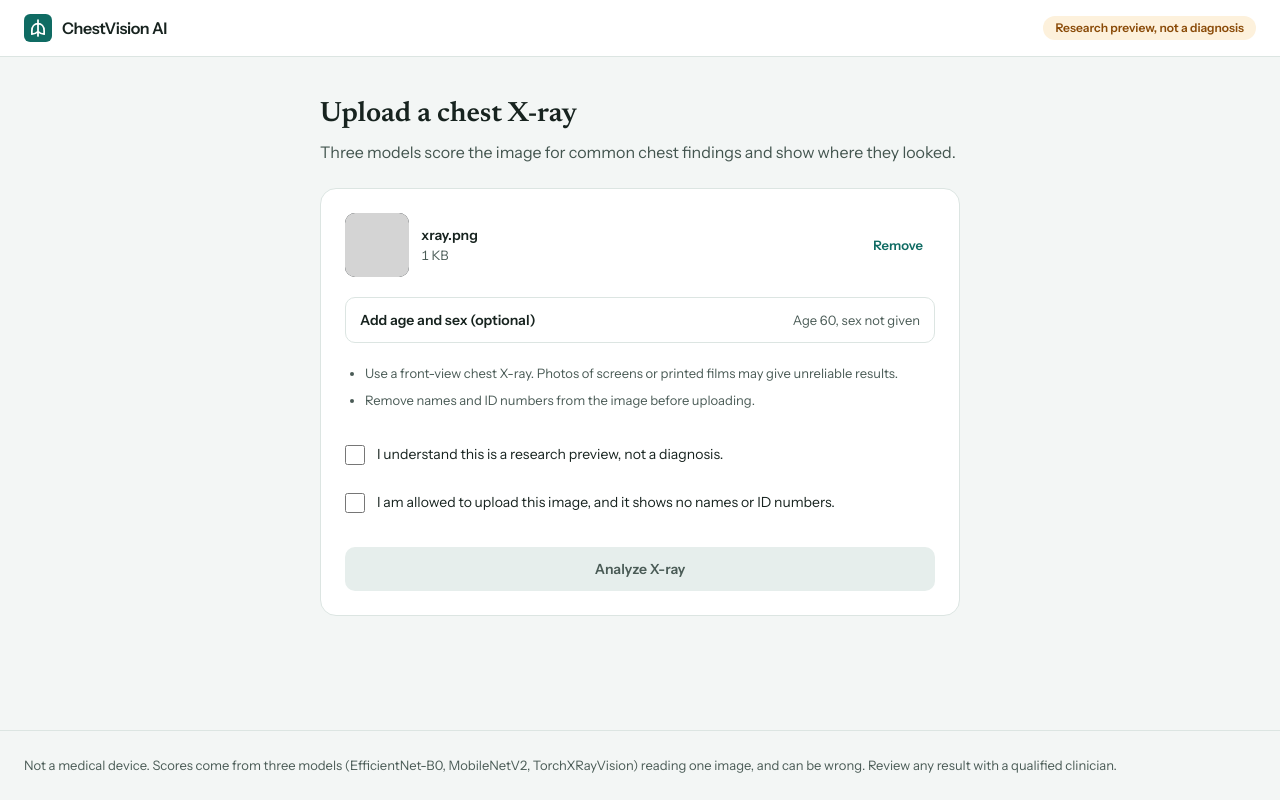
Test: analyze screen keeps the button disabled until a file is chosen and both boxes are ticked
Earlier steps of the test are not shown.
Expected: the text "xray.png" is shown, [421,226,478,244]
Expected: the button "Analyze X-ray" is disabled, [345,547,935,591]
Click the checkbox labelled "I understand this is a research preview, not a diagnosis.". click: (355, 455)
box: [345,445,365,465]
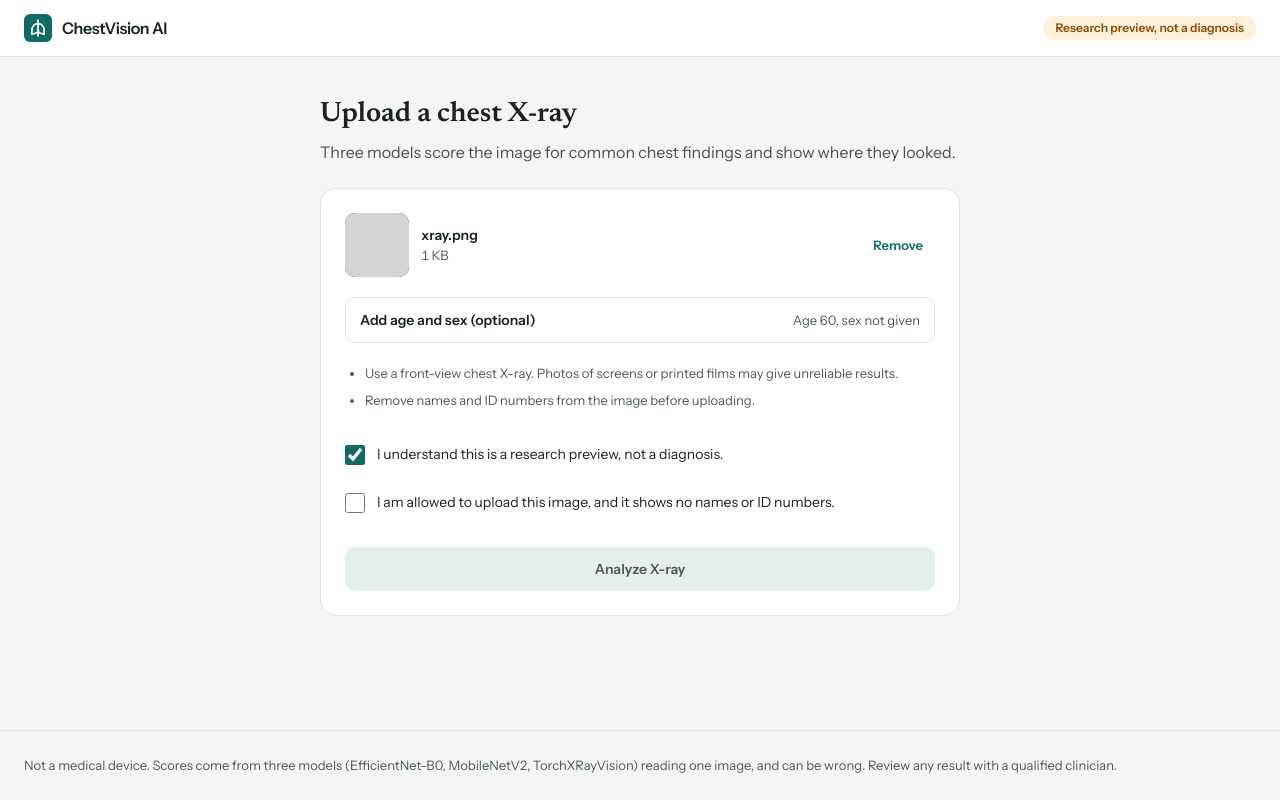
Click the 2nd checkbox. click: (355, 503)
box: [345,493,365,513]
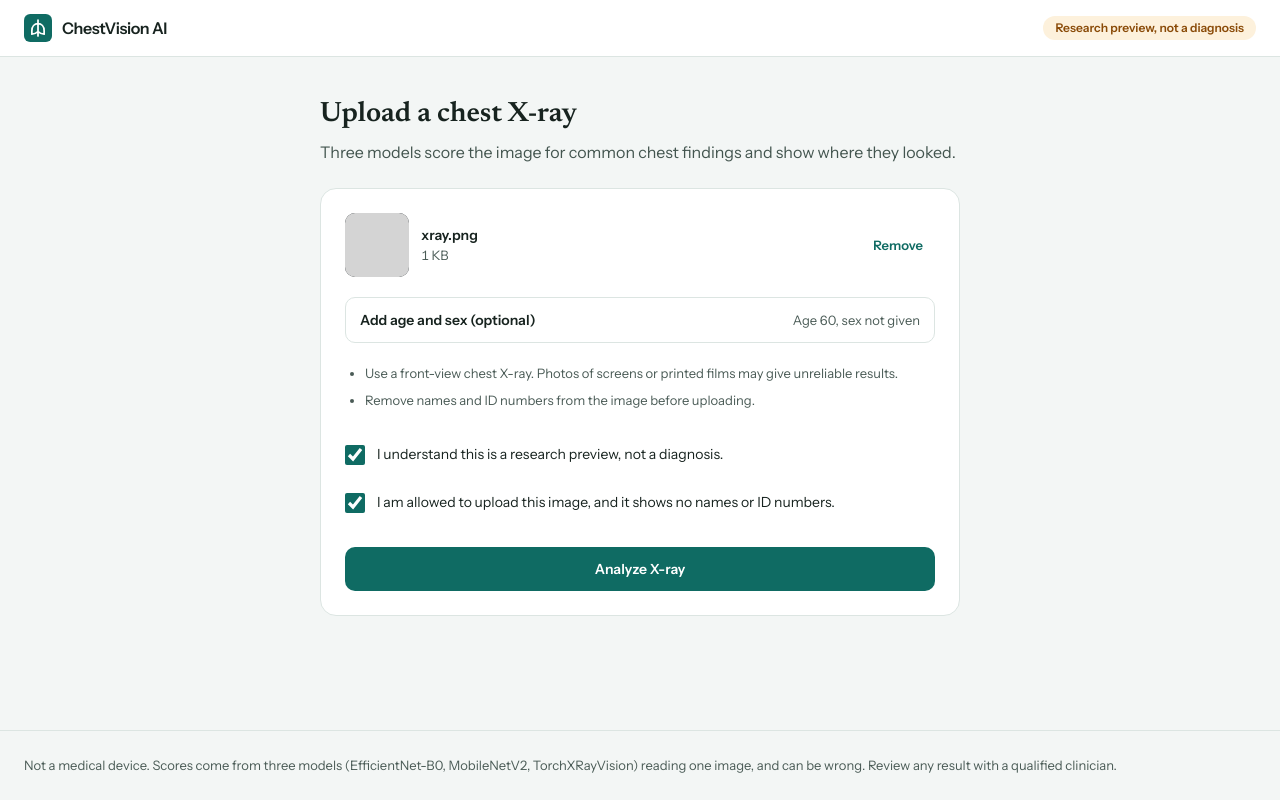
Expected: the button "Analyze X-ray" is enabled, [345,547,935,591]
